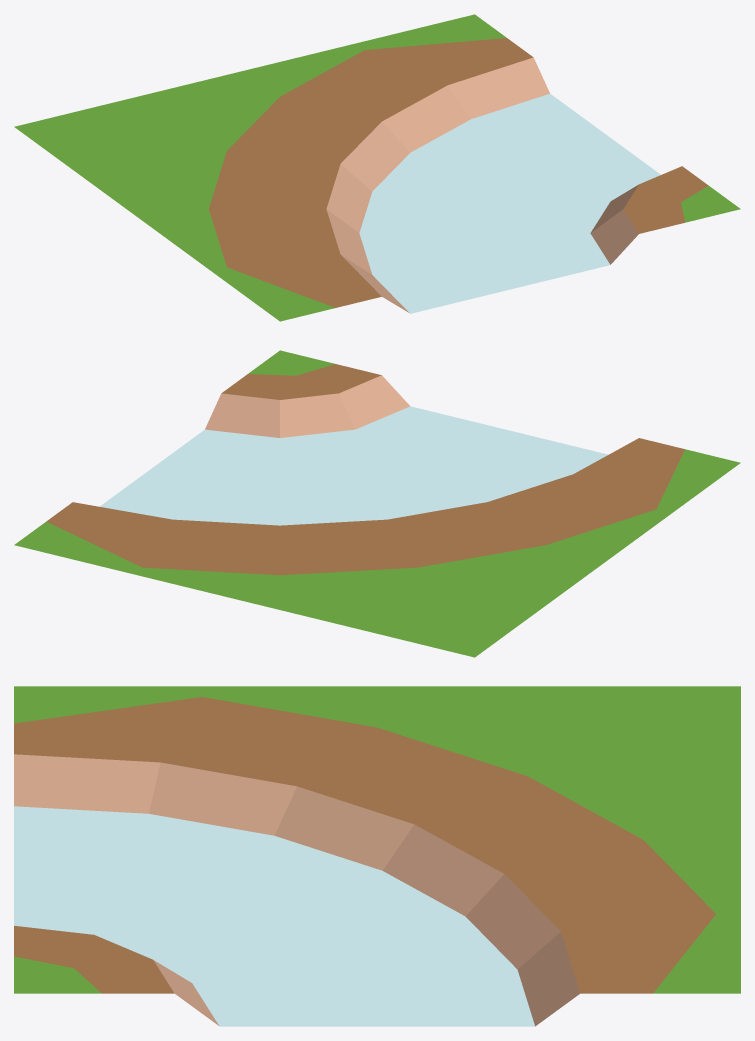
File: ground_riverBendBank.glb
The picture shows the model from 3 angles, top to bottom: view 1: azimuth 30°, elevation 25°; view 2: azimuth 150°, elevation 25°; view 3: azimuth 270°, elevation 25°; orthographic projection. The views are drawn at different scales.
Visible parts, largest first — view 1: ground_riverBendBank; view 2: ground_riverBendBank; view 3: ground_riverBendBank.
Part boxes in pixels (bbox=[...]): ground_riverBendBank: bbox=[14, 14, 740, 321]; ground_riverBendBank: bbox=[14, 350, 740, 657]; ground_riverBendBank: bbox=[14, 686, 740, 1026].
Bounding box in the file's own units: 1 × 0.05 × 1.
